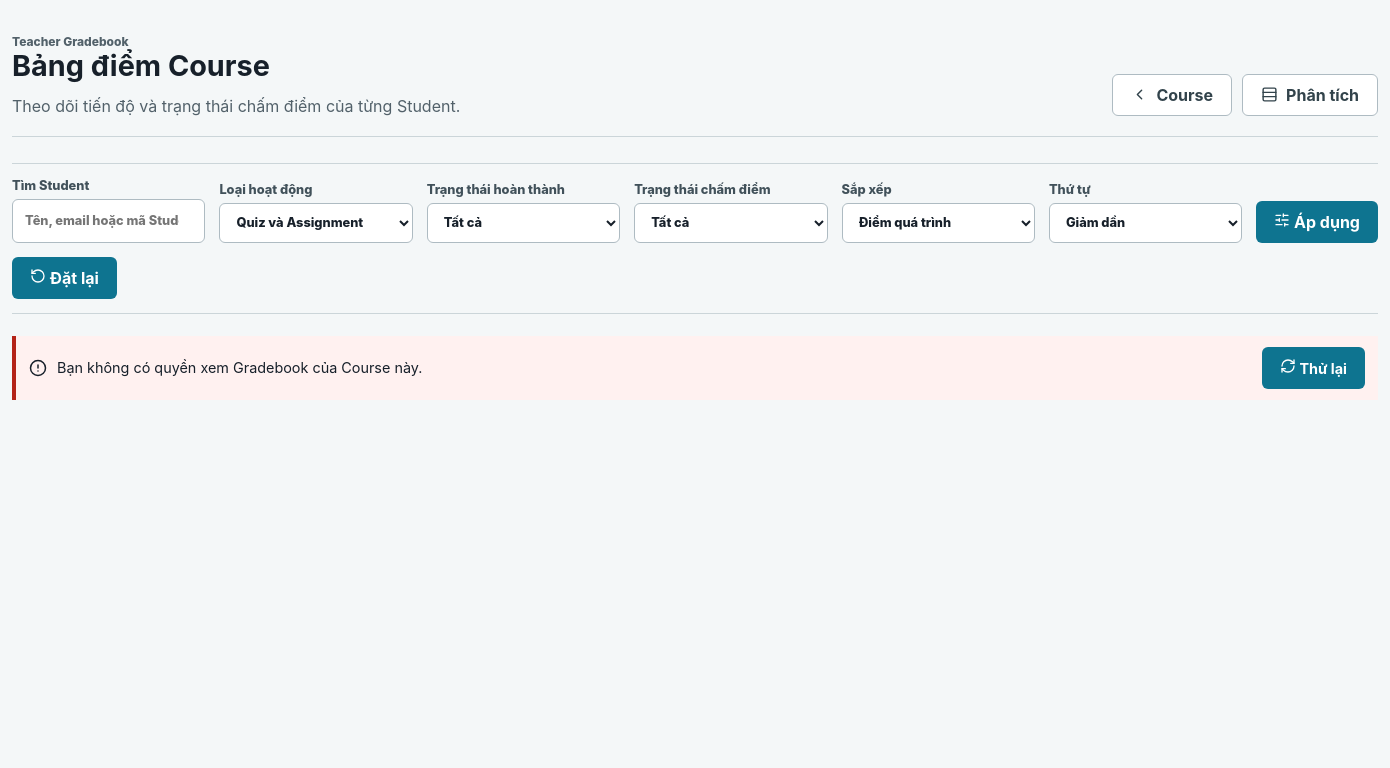
Scenario: Phase 06 Teacher Gradebook Web › shows a specific forbidden state and recovers through retry
Expected: the text "Bạn không có quyền xem Gradebook của Course này." is shown, [57,359,422,376]
Click the button "Thử lại" at (1314, 368), box [1262,346,1365,388]
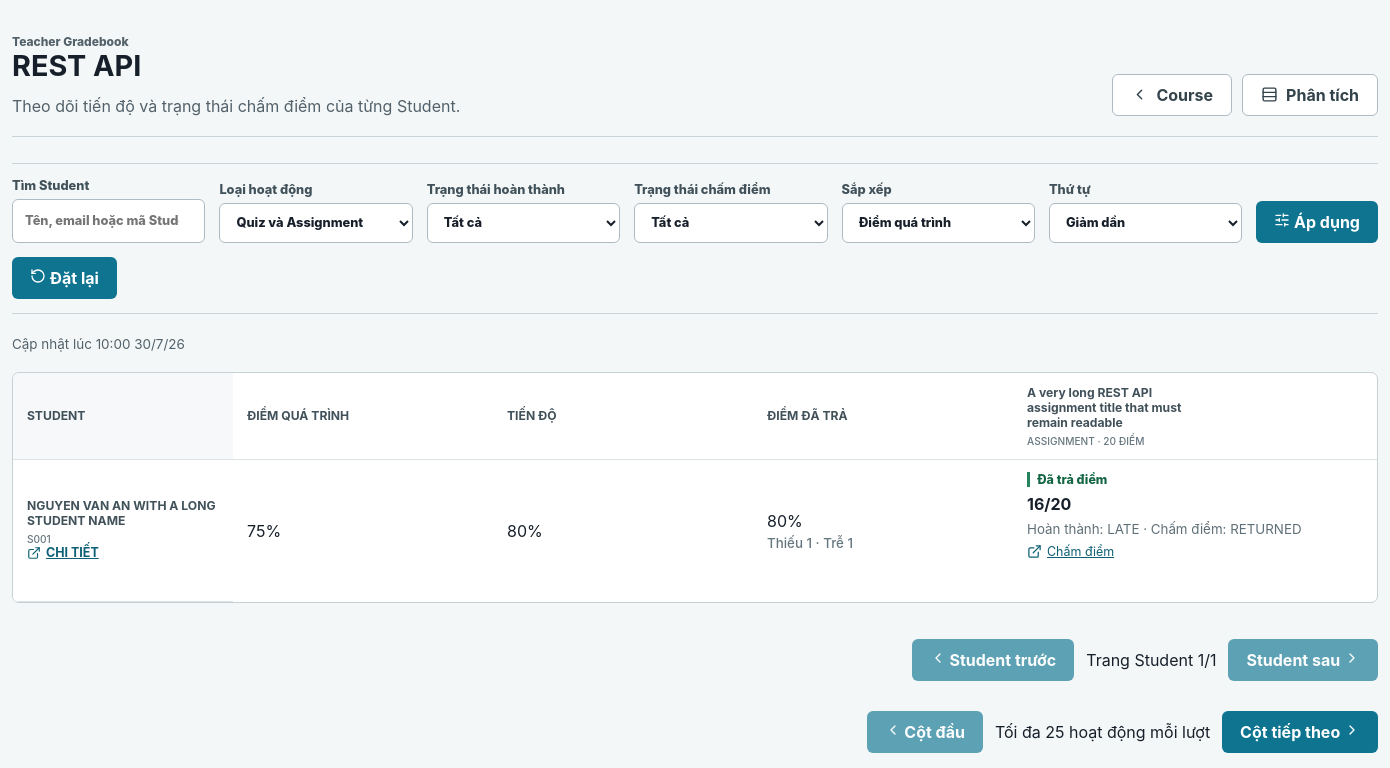
Expected: the text "Nguyen Van An With A Long Student Name" is shown, [27,498,219,528]
